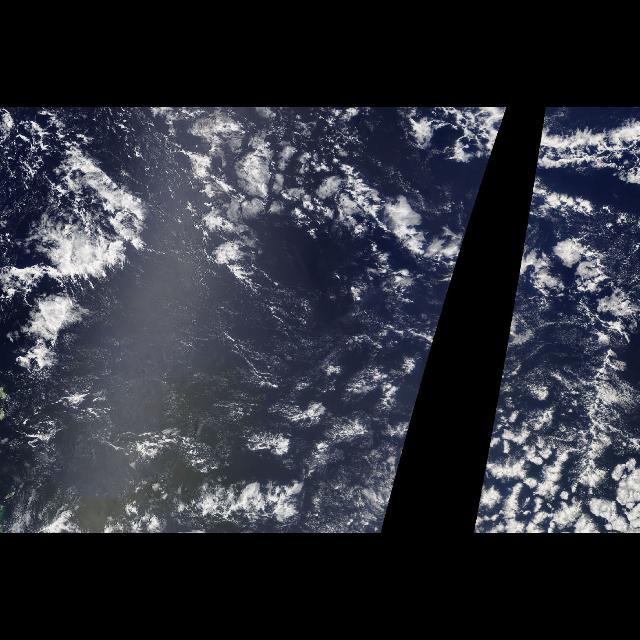Flower: (179, 119, 469, 533), (470, 225, 640, 533)
Gravel: (113, 336, 423, 524), (14, 142, 138, 282)
